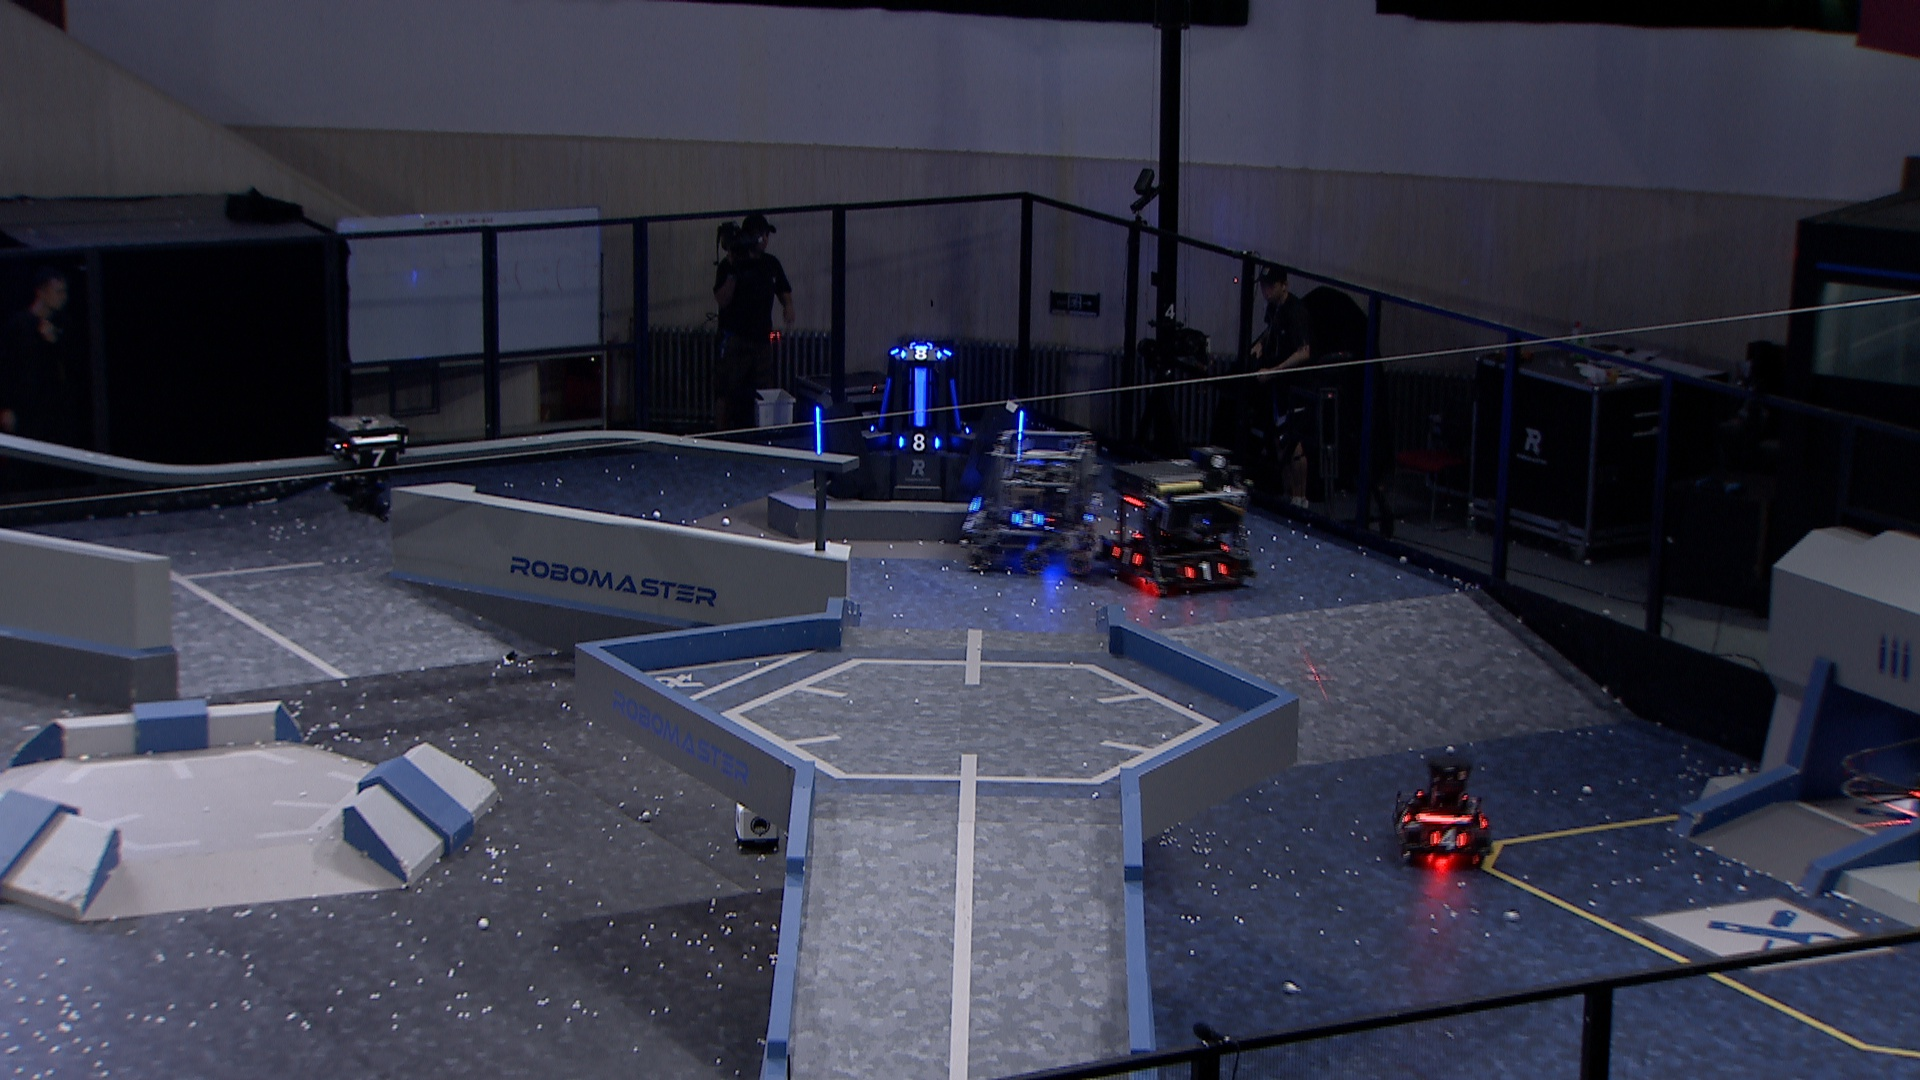armor: (913, 363, 931, 431), (1182, 559, 1229, 585), (874, 375, 895, 433), (1428, 825, 1470, 853), (945, 377, 965, 431), (895, 433, 942, 455), (353, 448, 400, 469), (1109, 545, 1145, 570), (1007, 508, 1044, 531), (899, 345, 944, 363), (811, 404, 823, 456), (1395, 806, 1414, 828), (1015, 409, 1027, 436)
base: (804, 342, 1035, 506)
car: (1088, 455, 1259, 597), (956, 425, 1109, 576), (1393, 749, 1498, 870)
watcher: (324, 411, 410, 526)
